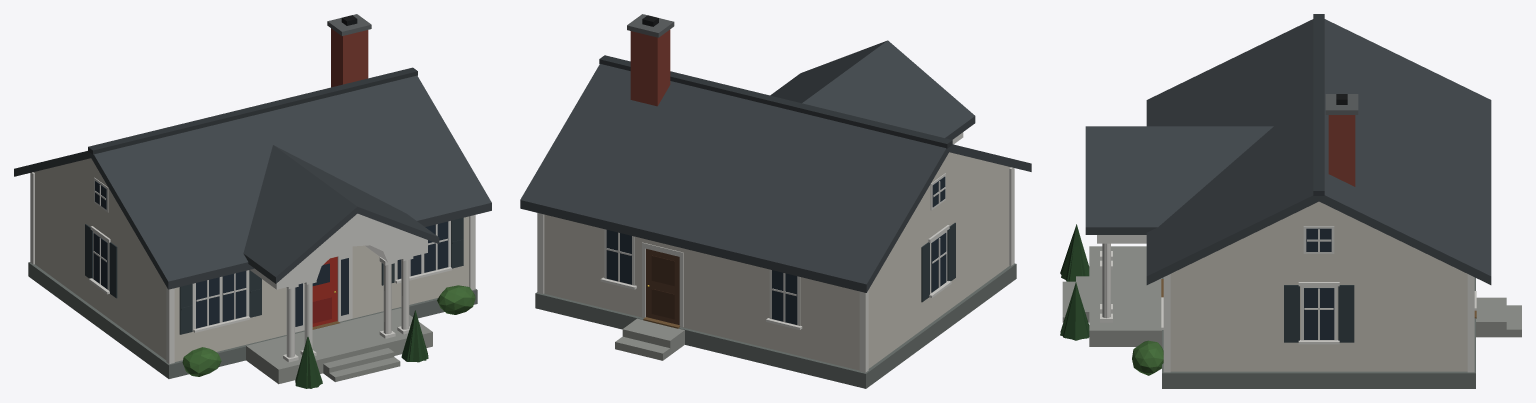
File: ClassicHouse.roblox.glb
3 renders of one model, left to right at view 1: azimuth 30°, elevation 25°; view 2: azimuth 150°, elevation 25°; view 3: azimuth 270°, elevation 25°, orthographic. The views are drawn at different scales.
Parts seen in each view (by area): view 1: RoofGroupStatic1, ClassicHouseStatic1, Simple, ClassicHouseStatic2, FrontDoor, FrontDoorPanel; view 2: RoofGroupStatic1, ClassicHouseStatic1, Simple, BackDoorStatic1, BackDoor, ClassicHouseStatic2; view 3: RoofGroupStatic1, ClassicHouseStatic1, Simple, ClassicHouseStatic2.
Part boxes in pixels (<box>): RoofGroupStatic1: <box>14,15,491,289</box>; ClassicHouseStatic1: <box>28,172,477,384</box>; Simple: <box>30,14,484,388</box>; ClassicHouseStatic2: <box>93,224,475,388</box>; FrontDoor: <box>312,256,337,326</box>; FrontDoorPanel: <box>312,297,331,323</box>; RoofGroupStatic1: <box>520,15,1031,292</box>; ClassicHouseStatic1: <box>535,167,1016,388</box>; Simple: <box>520,14,1009,323</box>; BackDoorStatic1: <box>651,255,674,319</box>; BackDoor: <box>646,249,679,324</box>; ClassicHouseStatic2: <box>606,232,946,321</box>; RoofGroupStatic1: <box>1085,14,1491,284</box>; ClassicHouseStatic1: <box>1062,243,1521,388</box>; Simple: <box>1060,19,1490,340</box>; ClassicHouseStatic2: <box>1060,224,1333,375</box>.
Size of the model in its own units: 10.95 by 7.69 by 12.07.
